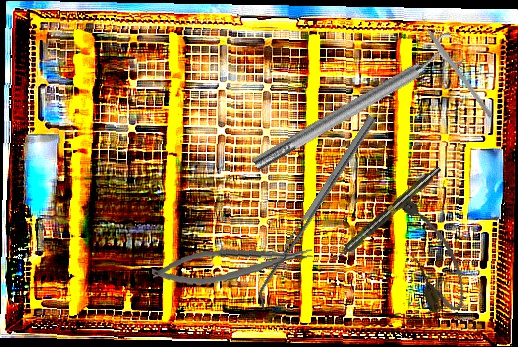Cannula: (390, 188, 473, 319)
Chopper: (416, 11, 498, 118)
Fixation Ring: (245, 30, 467, 180)
Handpiece: (326, 163, 444, 268)
Needle Holder: (150, 241, 315, 289)
Spatula Surgical: (249, 115, 384, 309)
